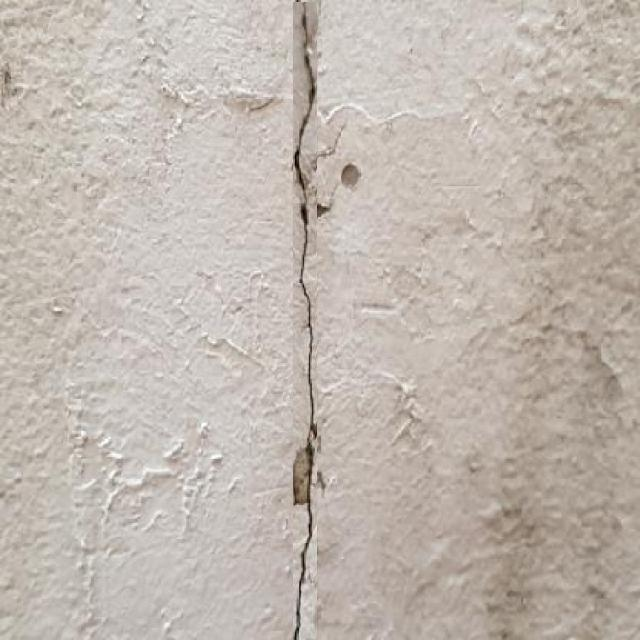vertical crack: (294, 4, 316, 639)
